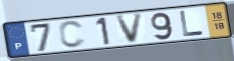1: (95, 16, 112, 47)
7: (28, 23, 54, 53)
9: (150, 11, 175, 41)
C: (58, 20, 88, 50)
L: (179, 10, 206, 38)
V: (115, 12, 146, 45)
